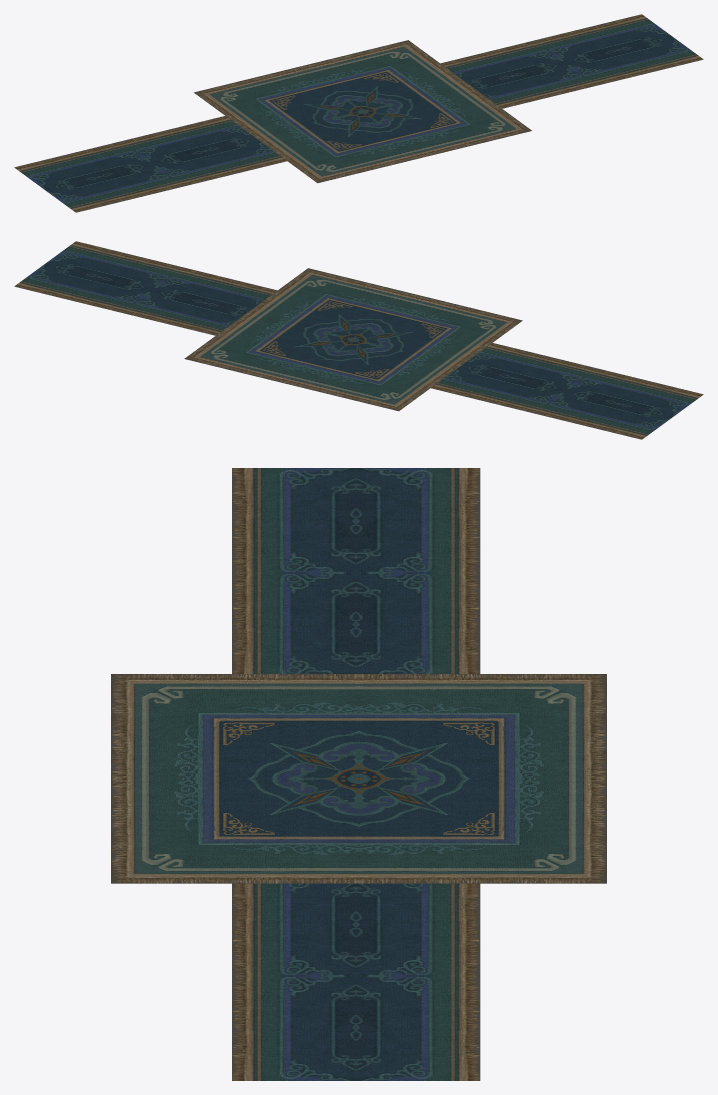
The model's file is fb_jianhugong_ditan01.FBX.
3 views of the same model, one above another, from view 1: azimuth 30°, elevation 25°; view 2: azimuth 150°, elevation 25°; view 3: azimuth 270°, elevation 25° (orthographic). The views are drawn at different scales.
Parts seen in each view (by area): view 1: fb_jianhugong_ditan01; view 2: fb_jianhugong_ditan01; view 3: fb_jianhugong_ditan01.
Boxes of the visible parts, <box> form: fb_jianhugong_ditan01: <box>14,14,703,212</box>; fb_jianhugong_ditan01: <box>14,241,703,439</box>; fb_jianhugong_ditan01: <box>111,468,606,1080</box>.
Bounding box in the file's own units: 2923 × 0.5646 × 1000.
